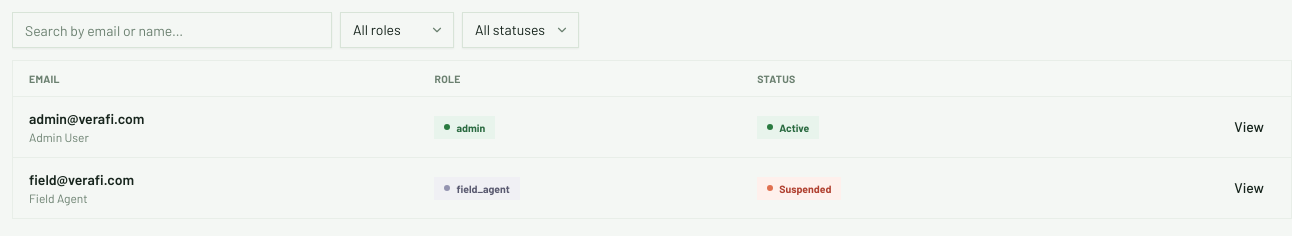
Test: UserTable › filters by role
Select "Admin" in the 1st dropdown showing "All roles". click: (397, 30)
box: [340, 12, 454, 48]
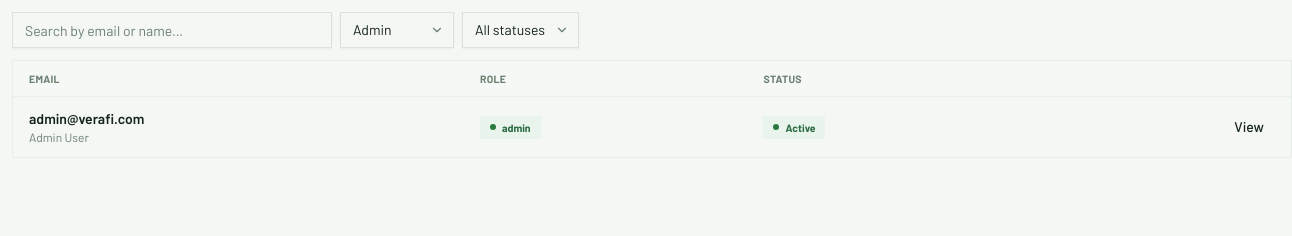
expect the text "admin@verafi.com" is shown: met, box [29, 110, 144, 127]
expect the text "field@verafi.com" is gone: met
